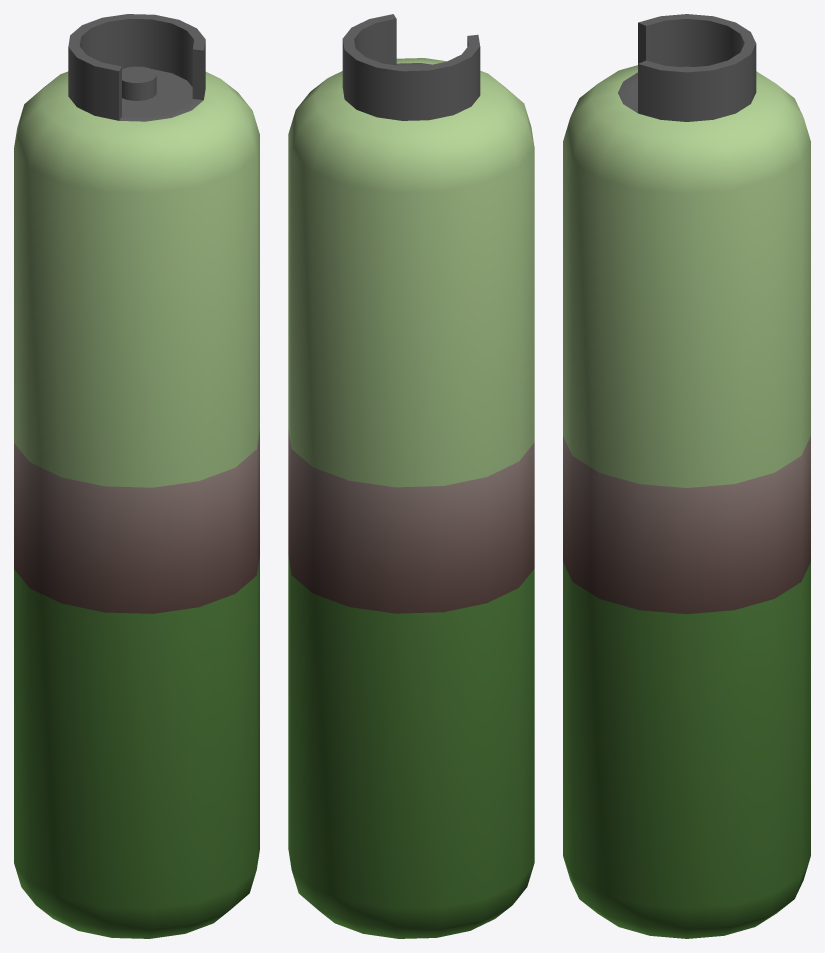
The model's file is GasCylinder03.fbx.
3 renders of one model, left to right at view 1: azimuth 30°, elevation 25°; view 2: azimuth 150°, elevation 25°; view 3: azimuth 270°, elevation 25°, orthographic.
Visible parts, largest first — view 1: GasCylinder03; view 2: GasCylinder03; view 3: GasCylinder03.
Boxes of the visible parts, box(x1,y1,x2,y2) form: GasCylinder03: box(14, 14, 259, 938); GasCylinder03: box(288, 14, 534, 938); GasCylinder03: box(563, 14, 810, 938).
Bounding box in the file's own units: 0.3927 × 0.3927 × 1.51.
